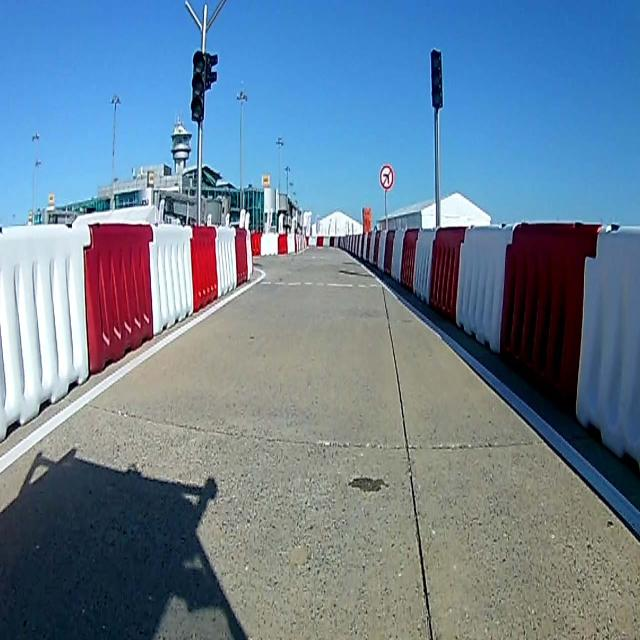soladonulmez: (379, 166, 394, 190)
